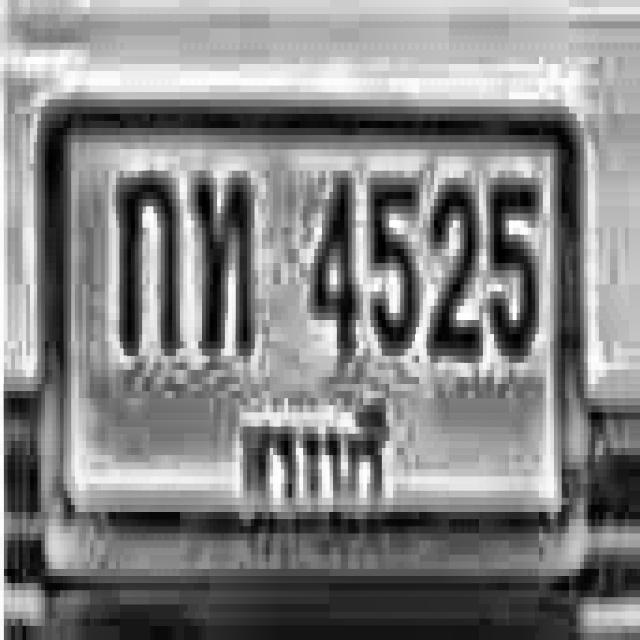license-plate: (30, 79, 601, 605)
